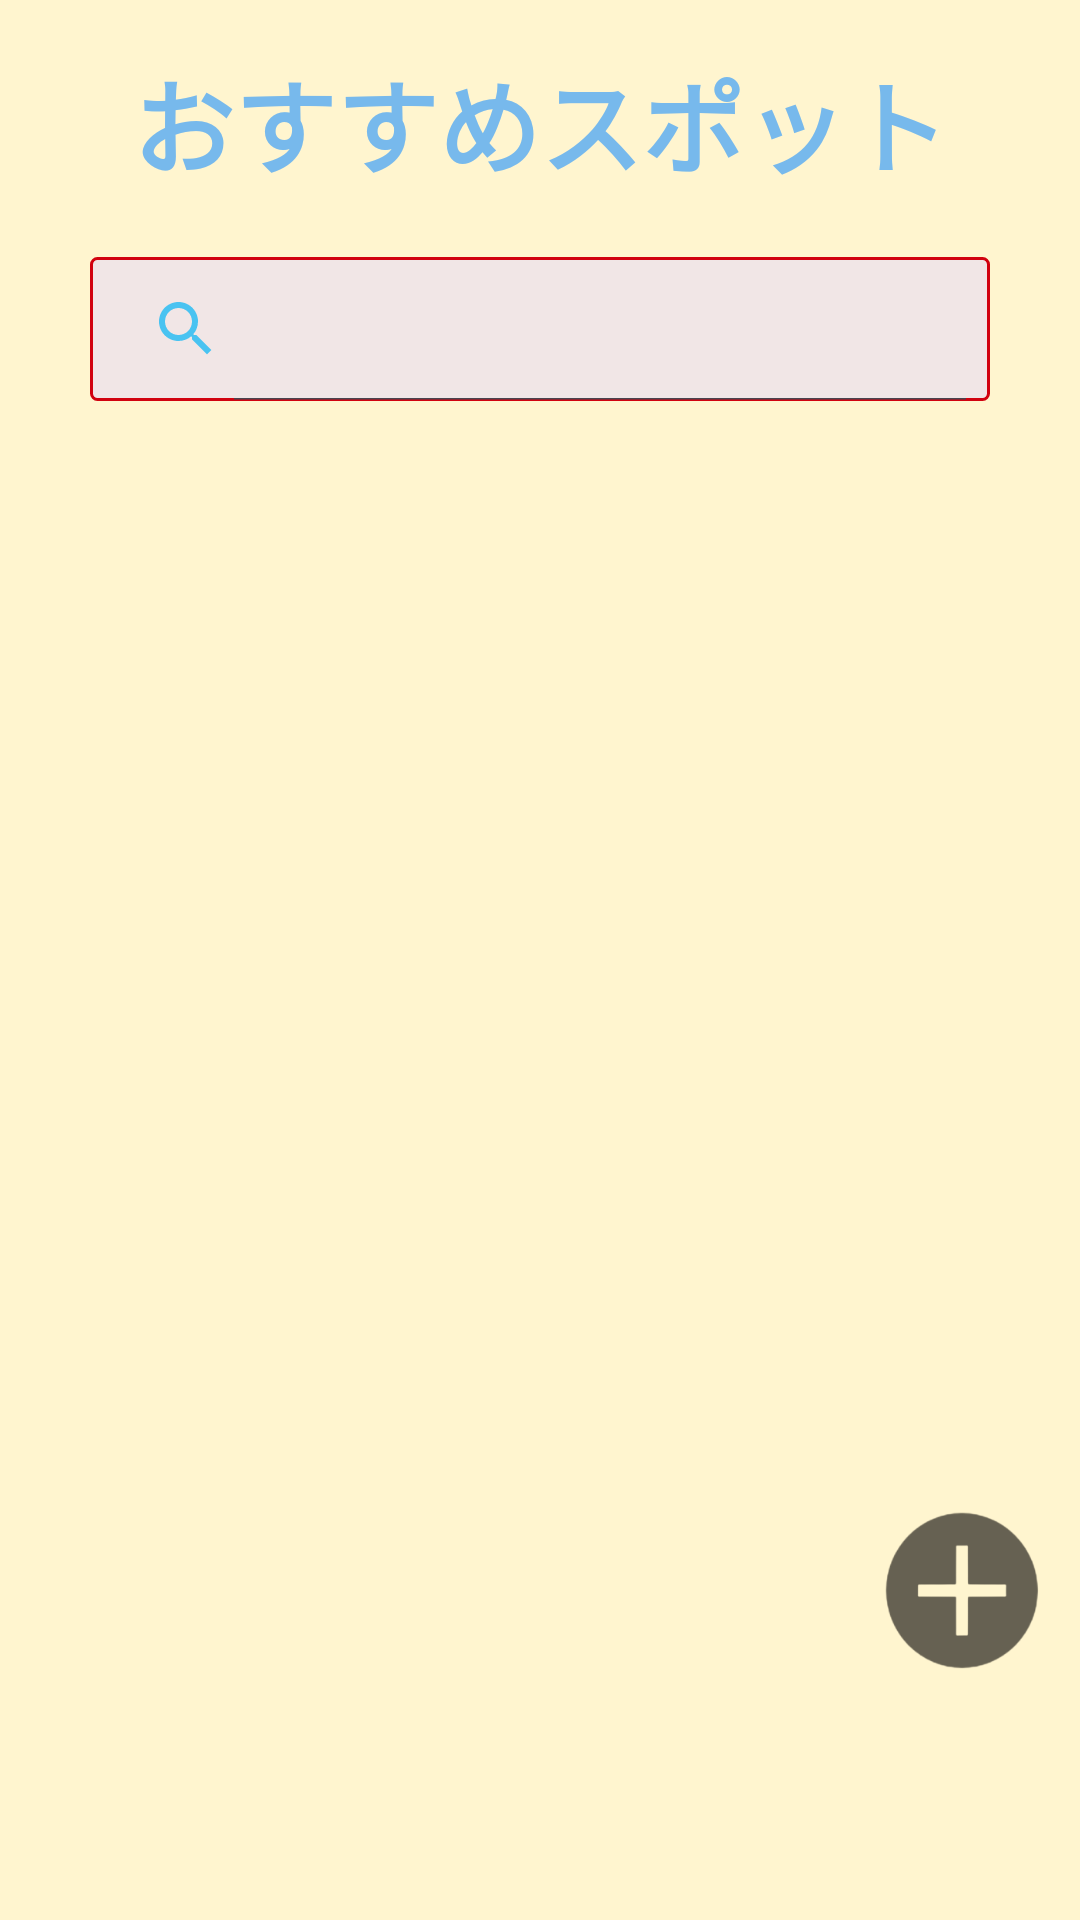

Screen size 1080x1920. Icon name, then its center in pixels as (x=x, y=y):
addbutton: (x=962, y=1590)
